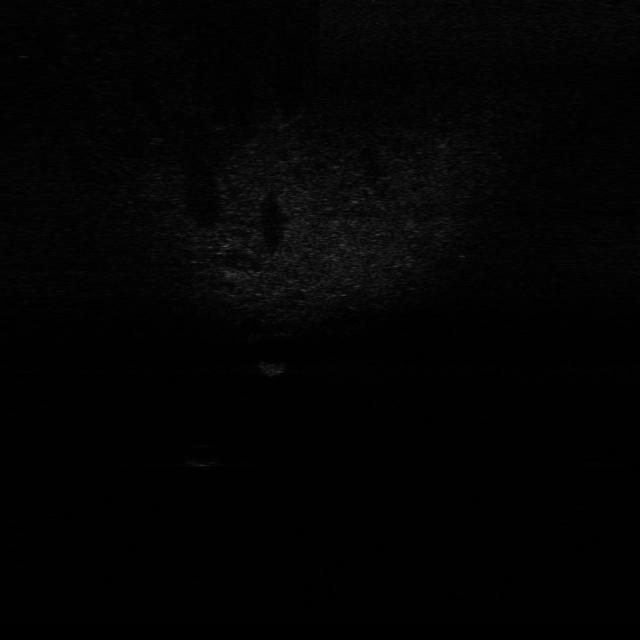ball: (183, 441, 222, 468)
cube: (257, 356, 289, 378)
